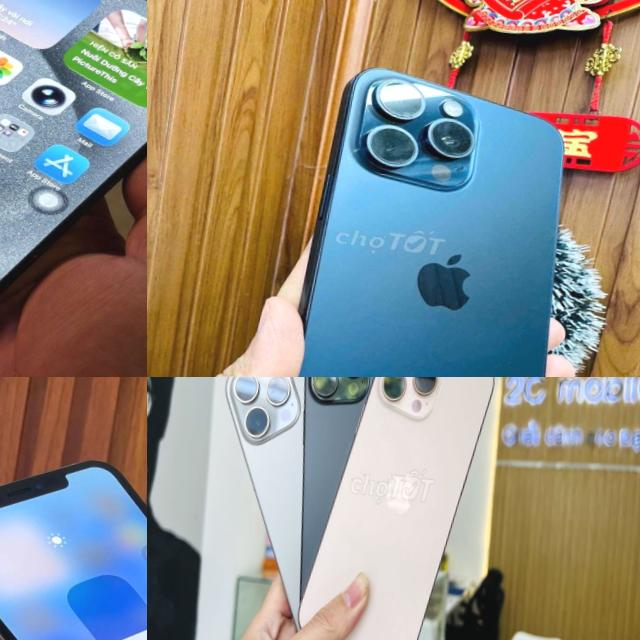gen_15: (265, 47, 608, 377), (0, 0, 147, 377)
gen_16: (286, 377, 500, 640)
gen_x_xs: (0, 433, 147, 640)
